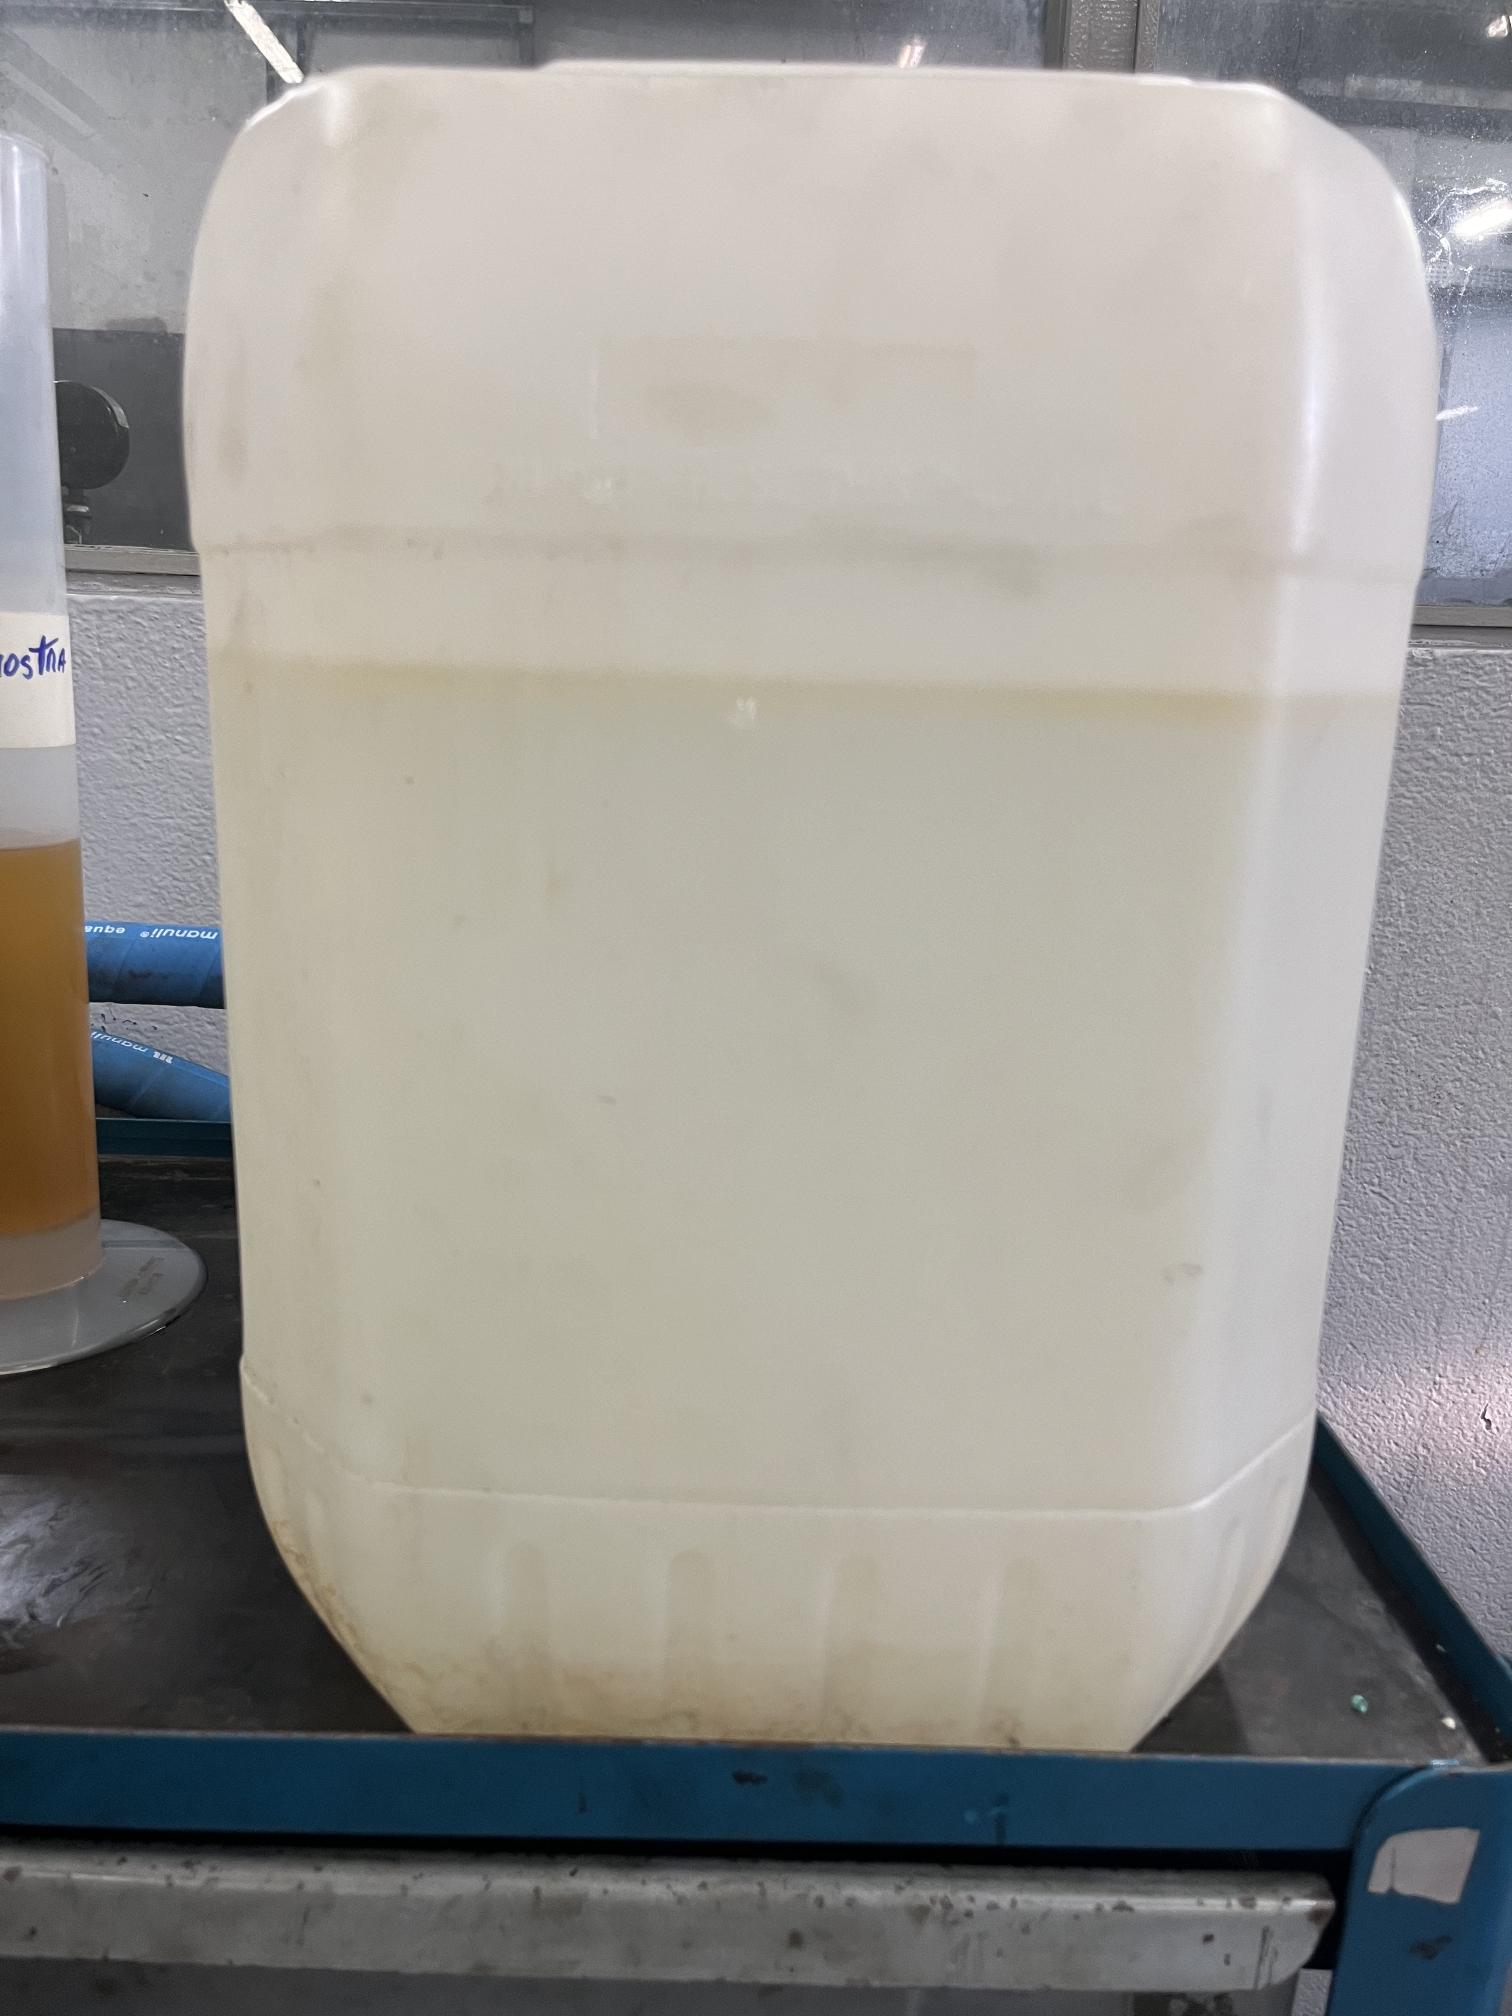Galao: (162, 54, 1426, 1757)
